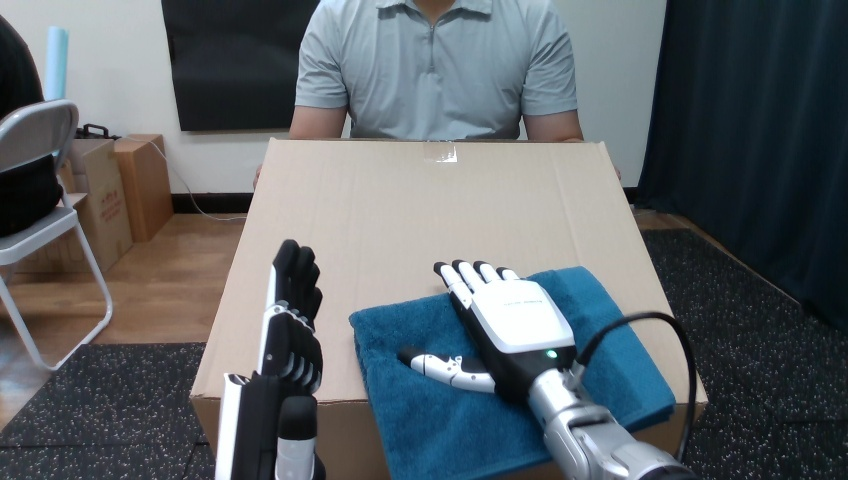left robot hand: (399, 260, 696, 479), (215, 240, 322, 479)
